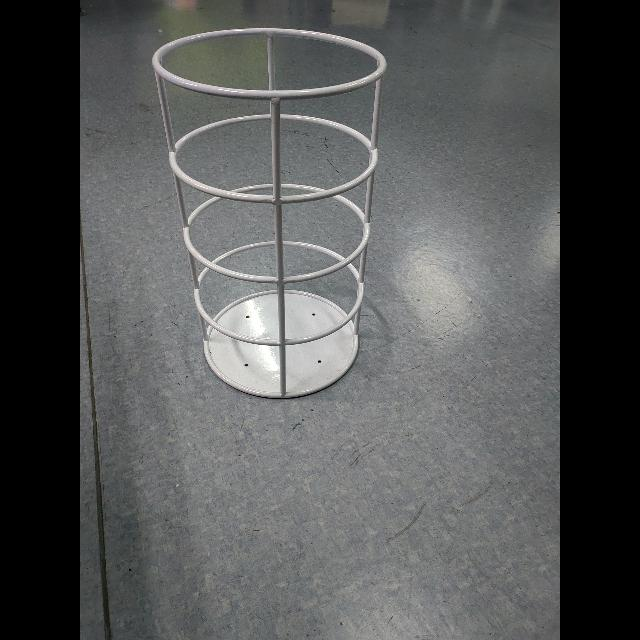S: (148, 26, 392, 402)
